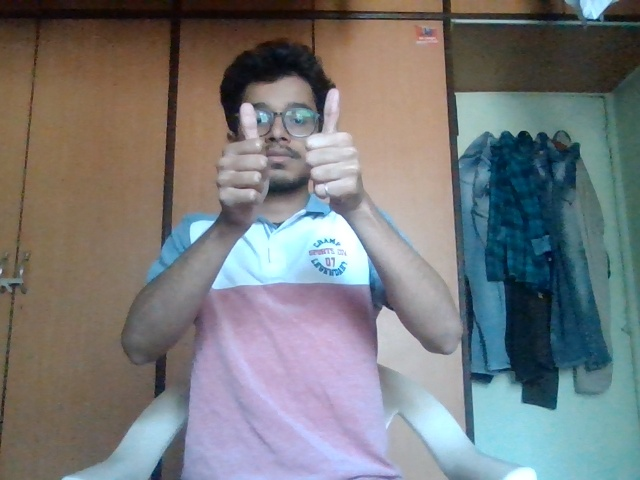thank-you: (207, 82, 374, 215)
